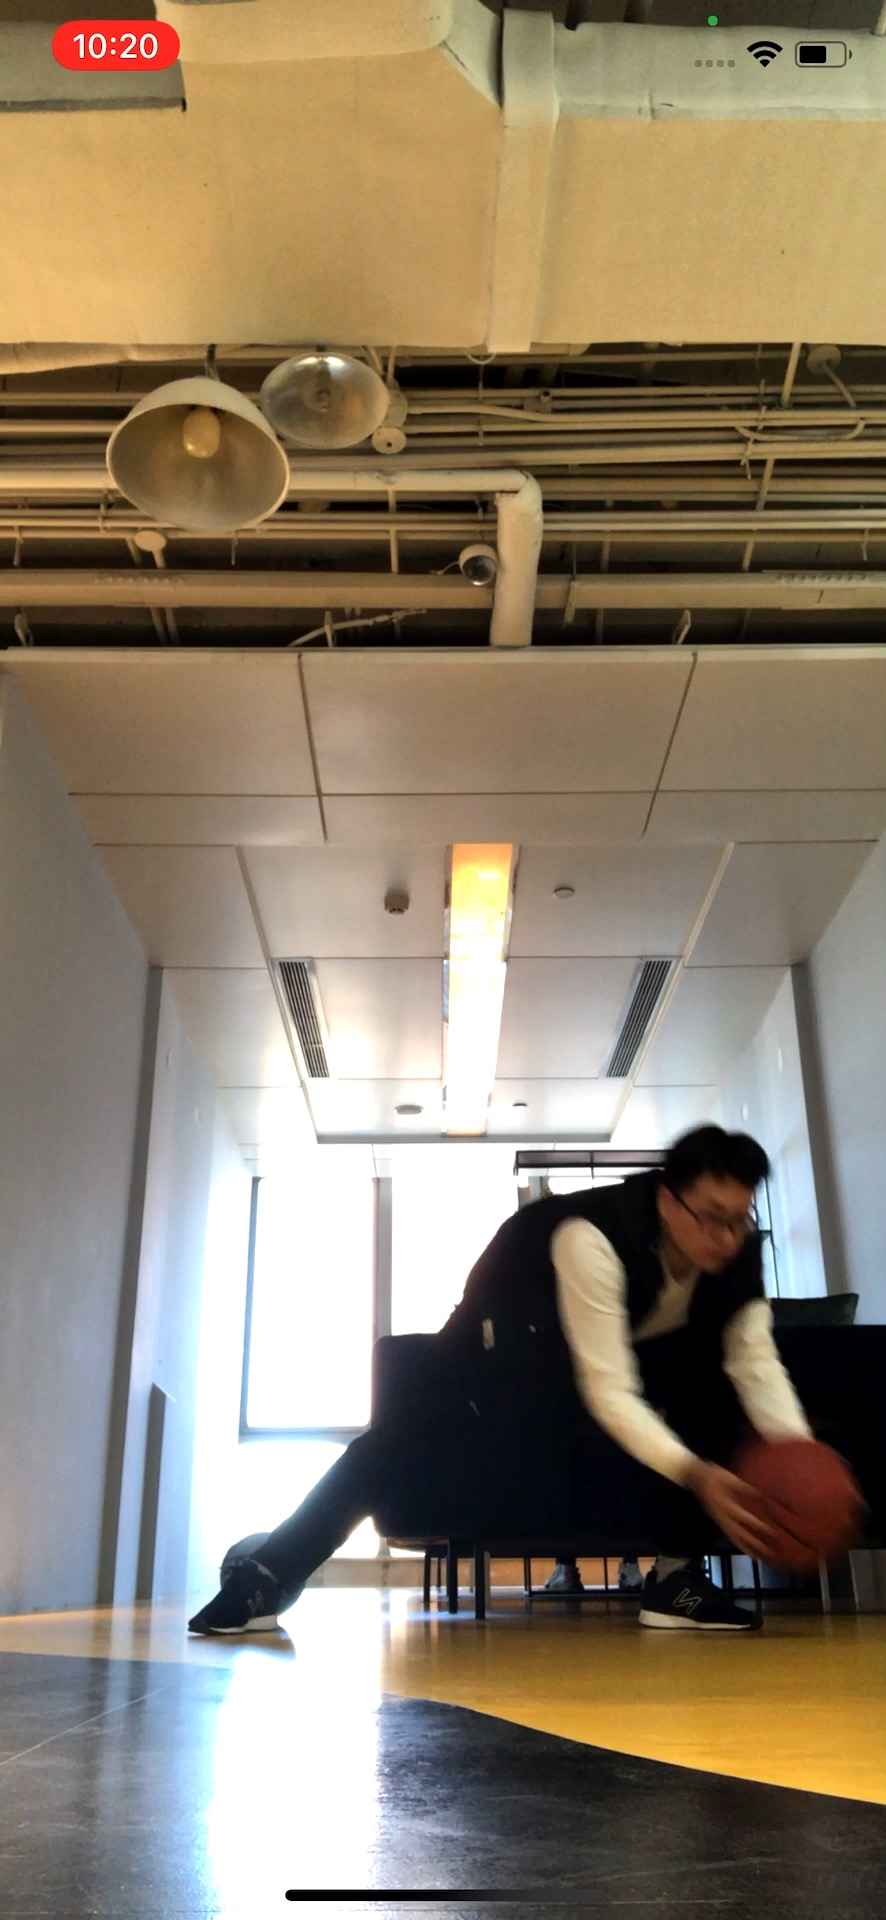ball: (739, 1438, 853, 1569)
